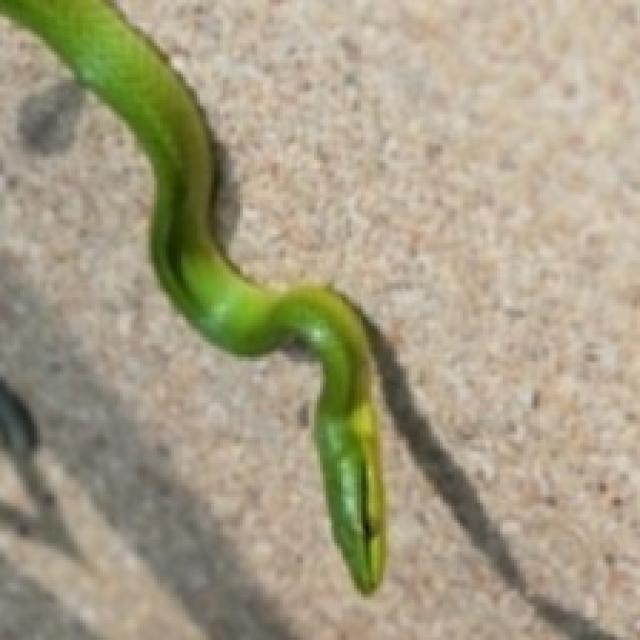red-tailed green ratsnake: (0, 0, 383, 591)
